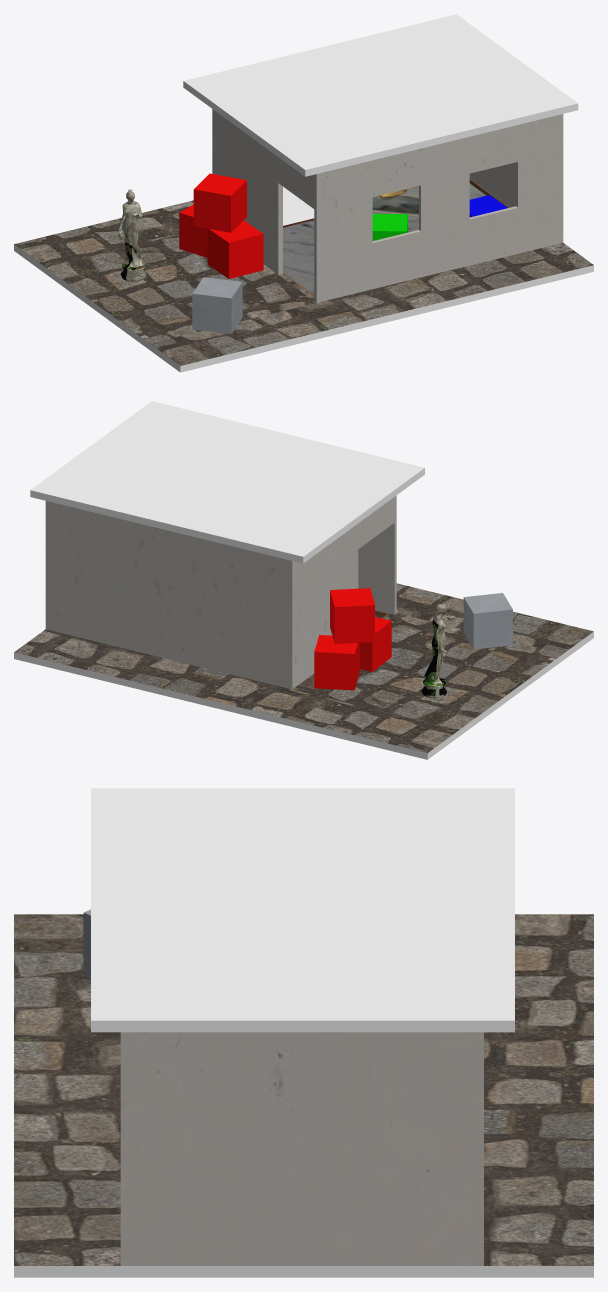
The model's file is presentation_video.glb.
The picture shows the model from 3 angles, top to bottom: view 1: azimuth 30°, elevation 25°; view 2: azimuth 150°, elevation 25°; view 3: azimuth 270°, elevation 25°; orthographic projection. The views are drawn at different scales.
Visible parts, largest first — view 1: Cube, Cube.007, Cube.002, Cube.003, Cube.005, statue, Cube.001, Plane, Cube.004, Cube.006; view 2: Cube, Cube.007, Cube.005, Cube.002, Cube.001, statue, Cube.003; view 3: Cube, Cube.007.
Boxes of the visible parts, box(x1,y1,x2,y2) form: Cube: box(14, 109, 593, 372); Cube.007: box(183, 14, 578, 176); Cube.002: box(193, 173, 246, 232); Cube.003: box(207, 220, 263, 278); Cube.005: box(192, 277, 242, 333); statue: box(118, 189, 146, 281); Cube.001: box(179, 204, 207, 257); Plane: box(283, 186, 314, 227); Cube.004: box(372, 214, 407, 240); Cube.006: box(469, 195, 507, 217); Cube: box(14, 495, 593, 759); Cube.007: box(30, 401, 424, 563); Cube.005: box(463, 593, 512, 649); Cube.002: box(330, 588, 374, 643); Cube.001: box(314, 635, 359, 690); statue: box(421, 603, 454, 697); Cube.003: box(359, 617, 391, 671); Cube: box(14, 914, 593, 1277); Cube.007: box(91, 788, 514, 1032).
Size of the model in its own units: 40.9 by 14.02 by 28.08.
14 materials, 11 textured.
